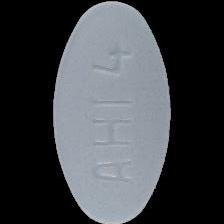68788-6436: (0, 0, 224, 224)
